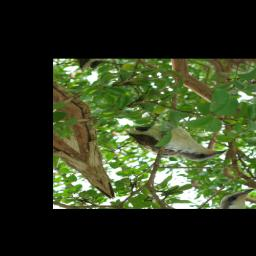Cuckoo: (122, 106, 227, 176)
